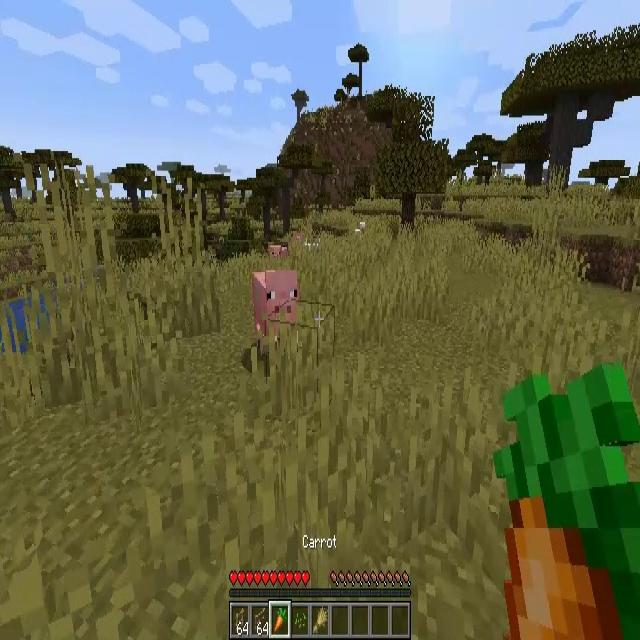pig: (255, 272, 300, 362), (268, 242, 288, 266)
